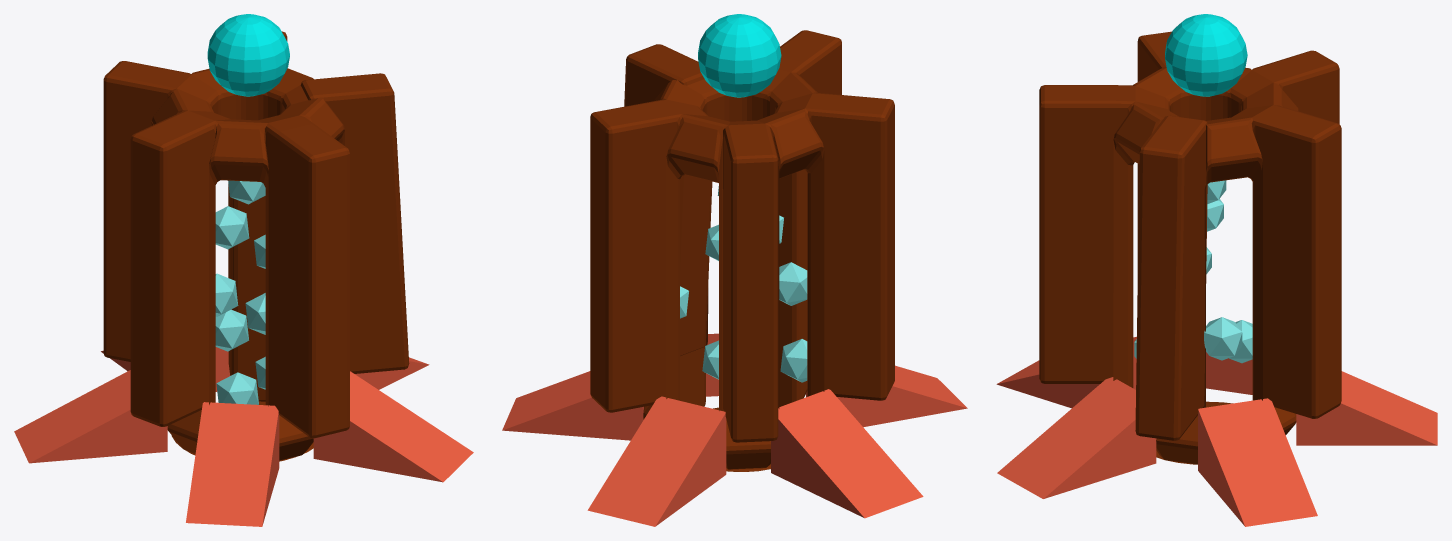
The model's file is materialBase.fbx.
The picture shows the model from 3 angles, left to right: view 1: azimuth 30°, elevation 25°; view 2: azimuth 150°, elevation 25°; view 3: azimuth 270°, elevation 25°; orthographic projection.
Parts seen in each view (by area): view 1: mainFrame, Cube.004, Cube.005, Cube.003, Sphere, Icosphere.001, Icosphere.005, Icosphere.006, Cube.001, Icosphere.003, Icosphere, Icosphere.008 (+1 smaller); view 2: mainFrame, Cube.002, Cube.003, Cube.001, Sphere, Cube.004, Icosphere.003, Icosphere.006; view 3: mainFrame, Cube.001, Cube.005, Cube.002, Sphere, Cube.004, Cube.003, Icosphere.004, Icosphere.005.
Part boxes in pixels (x1=…): mainFrame: x1=103, y1=31, x2=409, y2=460; Cube.004: x1=186, y1=402, x2=279, y2=526; Cube.005: x1=313, y1=371, x2=473, y2=482; Cube.003: x1=14, y1=370, x2=167, y2=463; Sphere: x1=207, y1=14, x2=289, y2=96; Icosphere.001: x1=215, y1=206, x2=249, y2=249; Icosphere.005: x1=215, y1=309, x2=248, y2=351; Icosphere.006: x1=216, y1=372, x2=258, y2=404; Cube.001: x1=355, y1=357, x2=429, y2=389; Icosphere.003: x1=215, y1=273, x2=238, y2=316; Icosphere: x1=228, y1=180, x2=265, y2=204; Icosphere.008: x1=245, y1=293, x2=265, y2=334; mainFrame: x1=590, y1=30, x2=894, y2=469; Cube.002: x1=587, y1=396, x2=726, y2=526; Cube.003: x1=771, y1=389, x2=923, y2=518; Cube.001: x1=502, y1=371, x2=643, y2=440; Sphere: x1=698, y1=14, x2=781, y2=97; Cube.004: x1=806, y1=365, x2=967, y2=427; Icosphere.003: x1=779, y1=262, x2=807, y2=305; Icosphere.006: x1=780, y1=339, x2=807, y2=382; mainFrame: x1=1039, y1=31, x2=1341, y2=464; Cube.001: x1=1198, y1=398, x2=1317, y2=526; Cube.005: x1=997, y1=377, x2=1156, y2=498; Cube.002: x1=1296, y1=371, x2=1437, y2=445; Sphere: x1=1165, y1=14, x2=1247, y2=96; Cube.004: x1=996, y1=336, x2=1136, y2=408; Cube.003: x1=1206, y1=352, x2=1252, y2=394; Icosphere.004: x1=1204, y1=317, x2=1242, y2=360; Icosphere.005: x1=1229, y1=320, x2=1252, y2=363.
Size of the model in its own units: 657 by 655 by 624.
